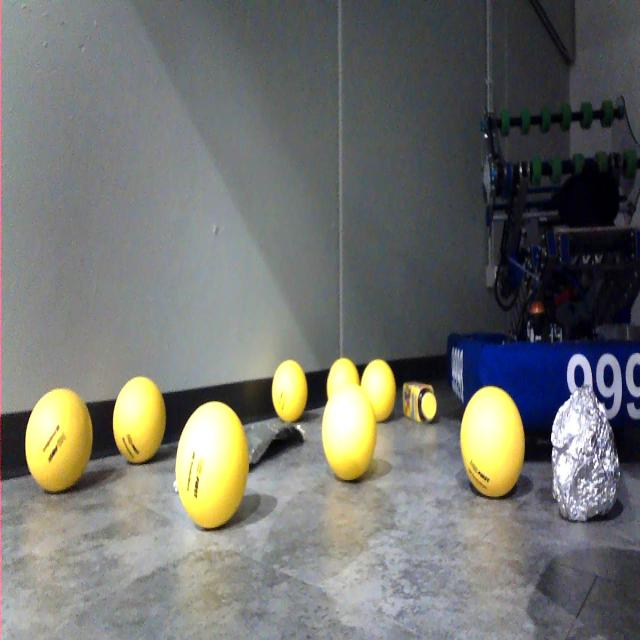Bumper: (440, 316, 640, 438)
fuel: (174, 395, 250, 536), (24, 376, 97, 497), (460, 382, 528, 504), (318, 380, 384, 489), (109, 371, 172, 472), (358, 352, 404, 423), (274, 356, 310, 423), (322, 352, 362, 397)
